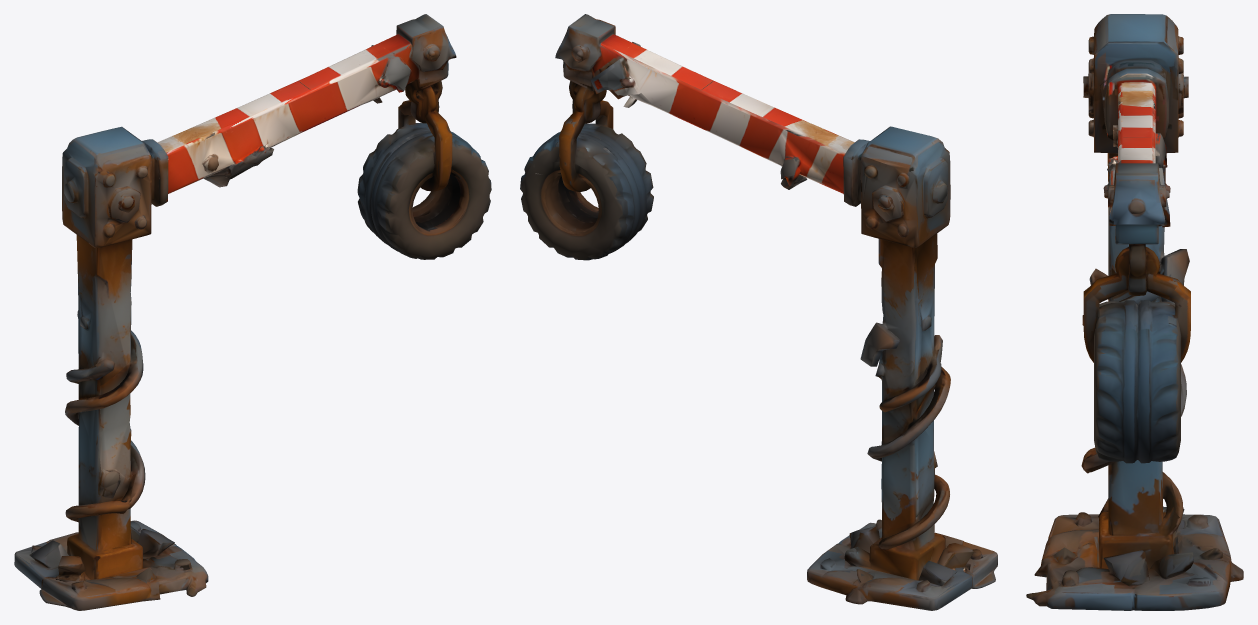
File: boom.fbx
The picture shows the model from 3 angles, left to right: view 1: azimuth 30°, elevation 25°; view 2: azimuth 150°, elevation 25°; view 3: azimuth 270°, elevation 25°; orthographic projection. The views are drawn at different scales.
Visible parts, largest first — view 1: node_0; view 2: node_0; view 3: node_0.
Boxes of the visible parts, left/top/right/bottom form: node_0: left=14, top=14, right=491, bottom=610; node_0: left=520, top=14, right=997, bottom=610; node_0: left=1026, top=14, right=1243, bottom=610.
Size of the model in its own units: 84.41 by 85.37 by 28.24.
1 material, 1 textured.
